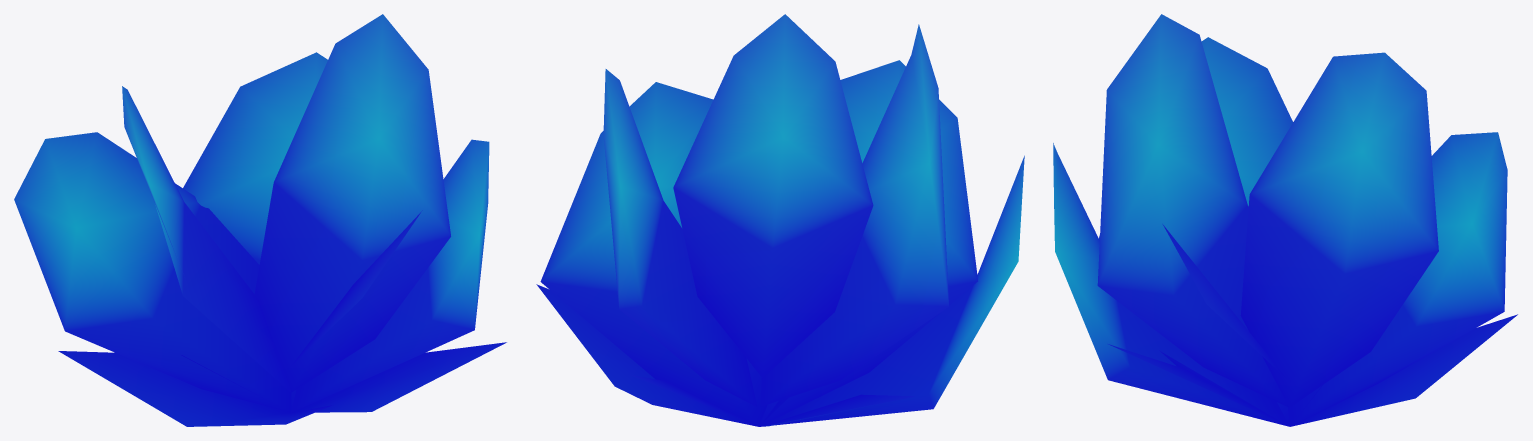
File: SM_Env_Flower_02.gltf
3 renders of one model, left to right at view 1: azimuth 30°, elevation 25°; view 2: azimuth 150°, elevation 25°; view 3: azimuth 270°, elevation 25°, orthographic. The views are drawn at different scales.
Parts seen in each view (by area): view 1: SM_Env_Flower_02_LOD0; view 2: SM_Env_Flower_02_LOD0; view 3: SM_Env_Flower_02_LOD0.
Part boxes in pixels (bbox=[...]): SM_Env_Flower_02_LOD0: bbox=[14, 14, 506, 426]; SM_Env_Flower_02_LOD0: bbox=[536, 14, 1024, 426]; SM_Env_Flower_02_LOD0: bbox=[1053, 14, 1517, 426].
Size of the model in its own units: 0.3312 by 0.2746 by 0.3147.
